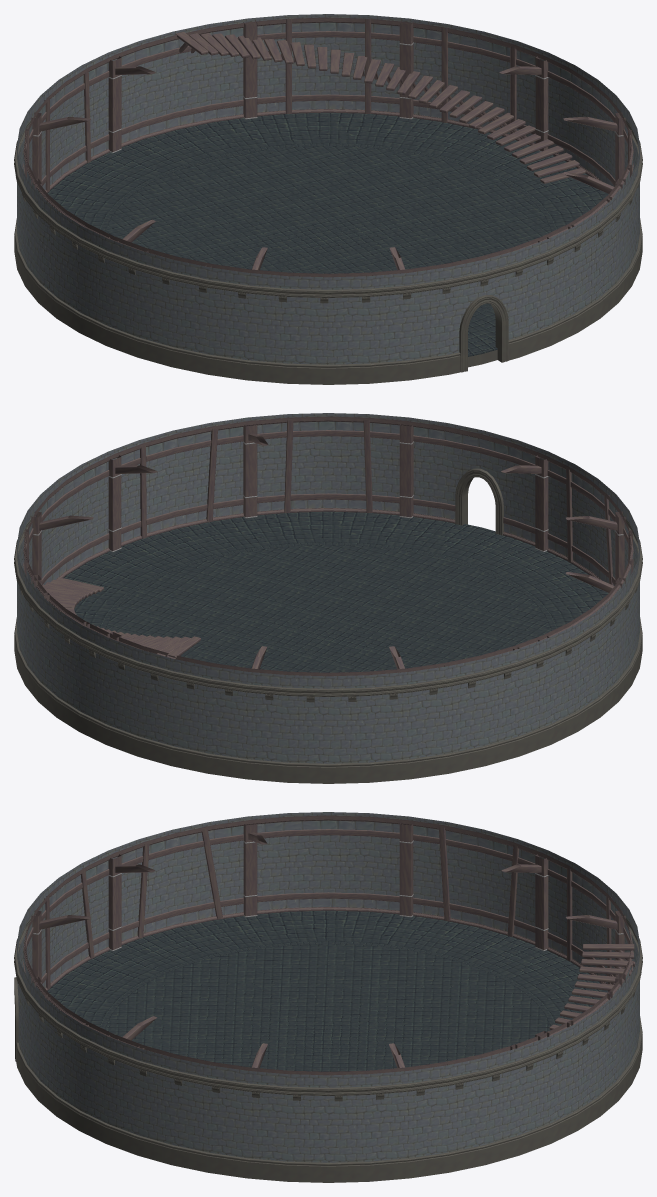
The model's file is TowerBottom.fbx.
3 renders of one model, top to bottom at view 1: azimuth 30°, elevation 25°; view 2: azimuth 150°, elevation 25°; view 3: azimuth 270°, elevation 25°, orthographic.
Parts seen in each view (by area): view 1: TowerBottomDefautExport; view 2: TowerBottomDefautExport; view 3: TowerBottomDefautExport.
Boxes of the visible parts, x1,y1,x2,y2 form: TowerBottomDefautExport: (14,14,642,384); TowerBottomDefautExport: (14,413,642,783); TowerBottomDefautExport: (14,812,642,1182).
Bounding box in the file's own units: 4947 × 925 × 4947.
